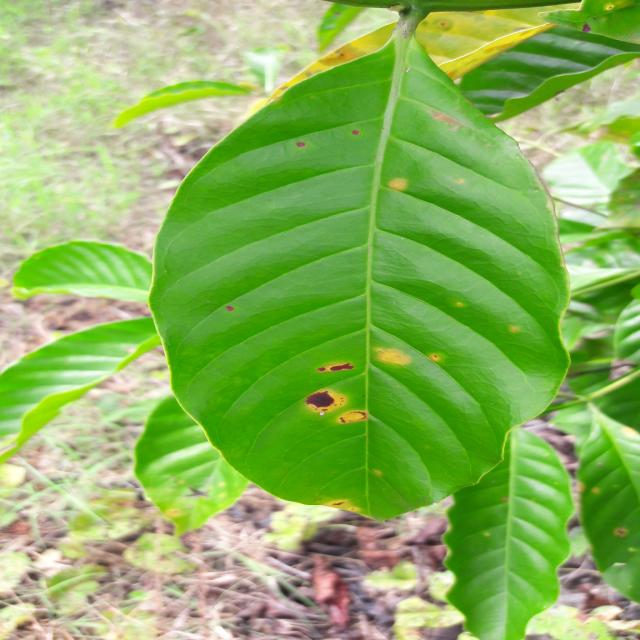Enfermedad-Roya: (137, 4, 570, 522)
